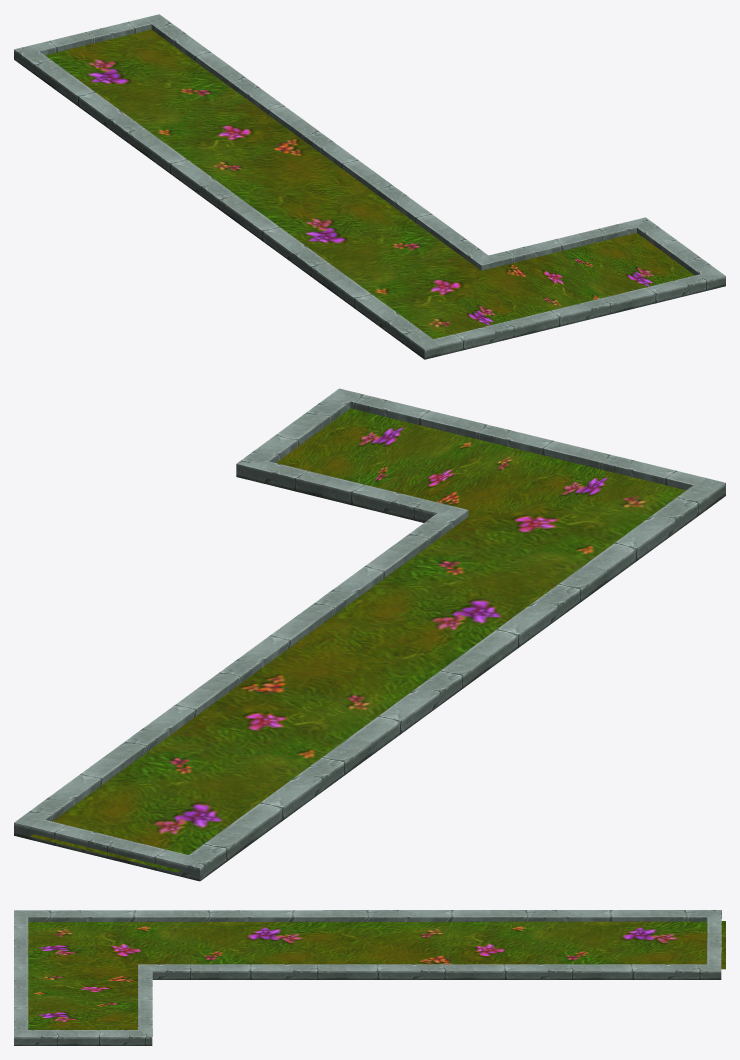
File: szc_object_18jiudian_huatan.FBX
The picture shows the model from 3 angles, top to bottom: view 1: azimuth 30°, elevation 25°; view 2: azimuth 150°, elevation 25°; view 3: azimuth 270°, elevation 25°; orthographic projection. The views are drawn at different scales.
Parts seen in each view (by area): view 1: z; view 2: z; view 3: z.
Part boxes in pixels (x1,y1,x2,y2): z: [14, 14, 725, 359]; z: [14, 388, 725, 881]; z: [14, 910, 725, 1045].
Bounding box in the file's own units: 313 × 10.16 × 741.
